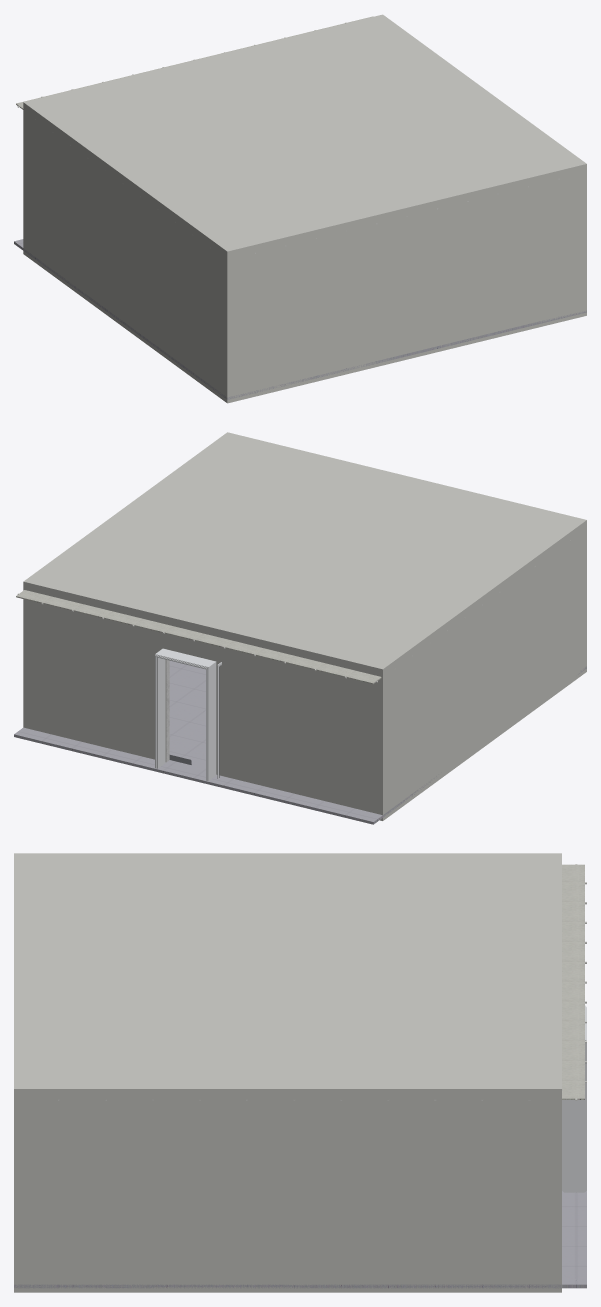
Rendered from infinigen-ed-stroke-bay.glb.
The picture shows the model from 3 angles, top to bottom: view 1: azimuth 30°, elevation 25°; view 2: azimuth 150°, elevation 25°; view 3: azimuth 270°, elevation 25°; orthographic projection. The views are drawn at different scales.
Parts seen in each view (by area): view 1: bedroom_0/0.exterior, openclinxr_floor_field; view 2: bedroom_0/0.exterior, openclinxr_floor_field, openclinxr_ceiling_tiles, bedroom_0/0.door_casing; view 3: bedroom_0/0.exterior, openclinxr_ceiling_tiles, openclinxr_floor_field, bedroom_0/0.door_casing.
Boxes of the visible parts, bbox=[...] form: bedroom_0/0.exterior: bbox=[23, 14, 586, 403]; openclinxr_floor_field: bbox=[14, 239, 586, 399]; bedroom_0/0.exterior: bbox=[23, 432, 586, 820]; openclinxr_floor_field: bbox=[14, 661, 586, 824]; openclinxr_ceiling_tiles: bbox=[16, 590, 381, 684]; bedroom_0/0.door_casing: bbox=[155, 648, 216, 780]; bedroom_0/0.exterior: bbox=[14, 853, 561, 1292]; openclinxr_ceiling_tiles: bbox=[562, 864, 584, 1099]; openclinxr_floor_field: bbox=[14, 1191, 586, 1288]; bedroom_0/0.door_casing: bbox=[562, 1005, 586, 1192].
Bounding box in the file's own units: 7.11 × 2.87 × 7.31.
Materials: 17 (10 with a texture image).
